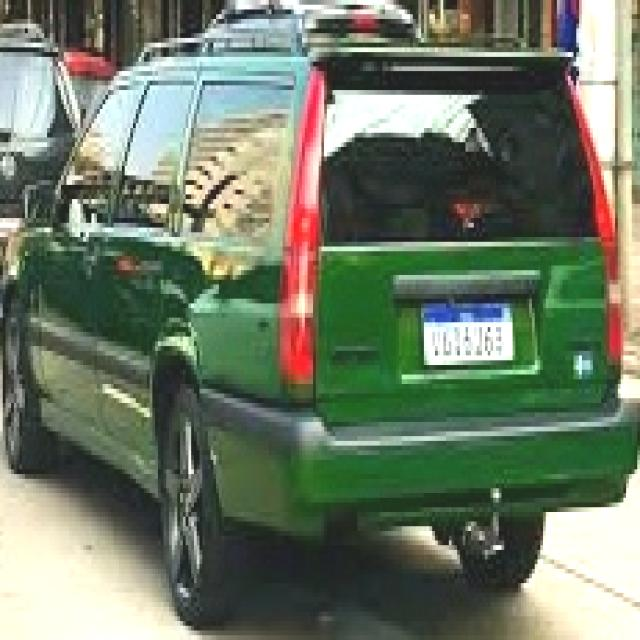green: (3, 15, 640, 628)
